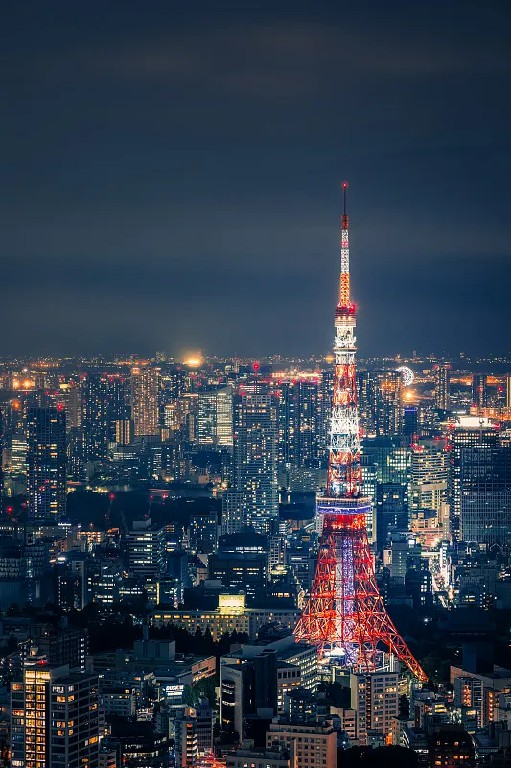Tokyo: (291, 174, 427, 687)
